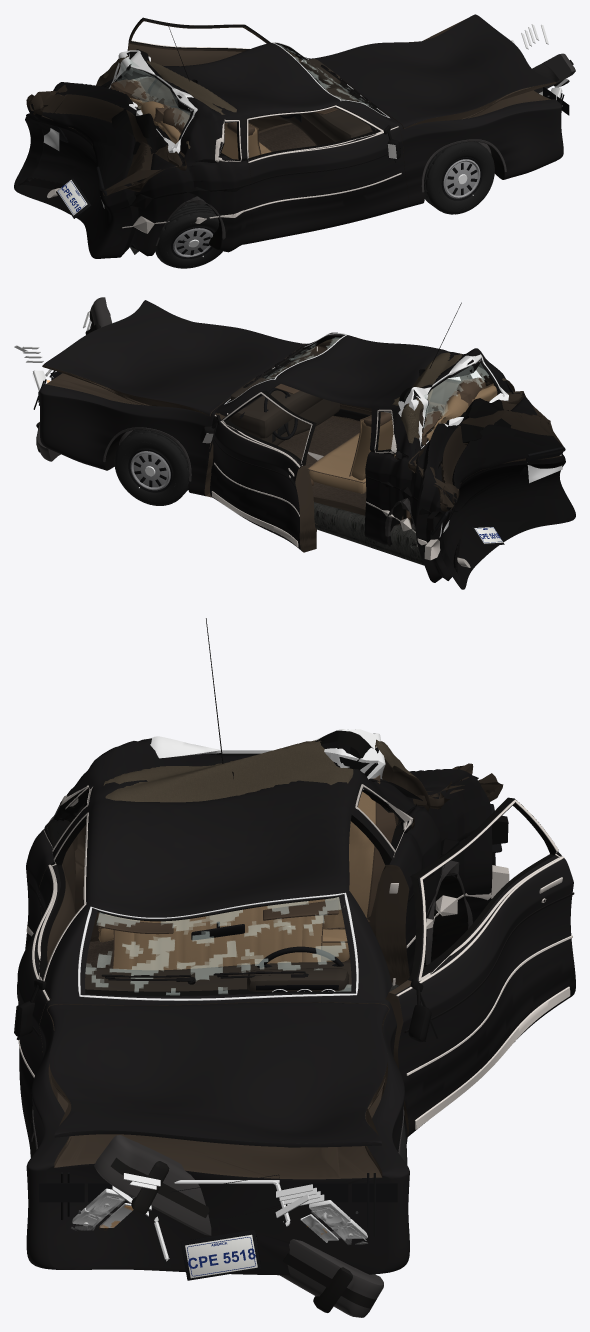
The model's file is coupe84_rear_d3.glb.
3 views of the same model, one above another, from view 1: azimuth 30°, elevation 25°; view 2: azimuth 150°, elevation 25°; view 3: azimuth 270°, elevation 25° (orthographic). The views are drawn at different scales.
Parts seen in each view (by area): view 1: Body, Hood, Door_FR, Trunk, Interior, Wheel_FR_mesh, Glass, Wheel_RR_mesh, Door_FL, Trim, Ends, Trim_FR (+1 smaller); view 2: Body, Hood, Interior, Door_FL, Trunk, Wheel_FL_mesh, Glass, Underbody, Trim, Ends, Trim_FL, Door_FR (+2 smaller); view 3: Body, Hood, Door_FL, Interior, Ends, Glass, Bumper_F, Trim_FL, Door_FR, Trim, Trim_FR, Trunk (+1 smaller).
Boxes of the visible parts, bbox=[...] form: Body: bbox=[14, 42, 563, 258]; Hood: bbox=[312, 14, 556, 128]; Door_FR: bbox=[246, 105, 408, 242]; Trunk: bbox=[27, 82, 182, 190]; Interior: bbox=[110, 58, 376, 159]; Wheel_FR_mesh: bbox=[424, 141, 494, 214]; Glass: bbox=[108, 42, 389, 162]; Wheel_RR_mesh: bbox=[155, 202, 222, 268]; Door_FL: bbox=[127, 17, 301, 131]; Trim: bbox=[120, 24, 506, 245]; Ends: bbox=[26, 24, 569, 218]; Trim_FR: bbox=[247, 105, 401, 209]; Body: bbox=[39, 332, 575, 589]; Hood: bbox=[42, 300, 305, 416]; Interior: bbox=[228, 351, 497, 518]; Door_FL: bbox=[210, 390, 316, 552]; Trunk: bbox=[413, 393, 565, 504]; Wheel_FL_mesh: bbox=[114, 430, 188, 505]; Glass: bbox=[224, 333, 508, 453]; Underbody: bbox=[308, 451, 470, 567]; Trim: bbox=[103, 302, 461, 560]; Ends: bbox=[14, 311, 564, 545]; Trim_FL: bbox=[199, 392, 313, 547]; Door_FR: bbox=[306, 343, 462, 421]; Body: bbox=[25, 730, 503, 1275]; Hood: bbox=[47, 1002, 388, 1147]; Door_FL: bbox=[385, 797, 575, 1136]; Interior: bbox=[85, 775, 396, 992]; Ends: bbox=[39, 804, 501, 1280]; Glass: bbox=[54, 729, 409, 1000]; Bumper_F: bbox=[94, 1135, 383, 1317]; Trim_FL: bbox=[392, 799, 574, 1129]; Door_FR: bbox=[17, 811, 89, 1139]; Trim: bbox=[26, 618, 509, 1154]; Trim_FR: bbox=[14, 812, 88, 1077]; Trunk: bbox=[409, 763, 478, 798].
Size of the model in its own units: 4.69 by 2 by 2.51.
Materials: 33 (5 with a texture image).
